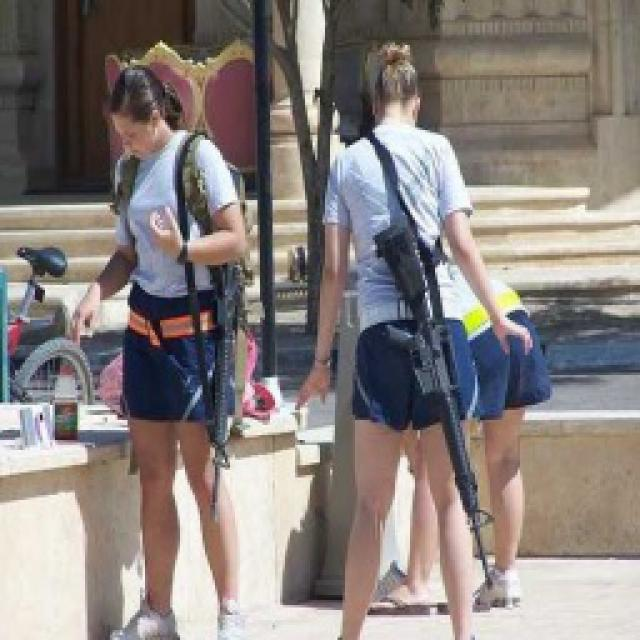long weapon: (372, 239, 510, 603)
